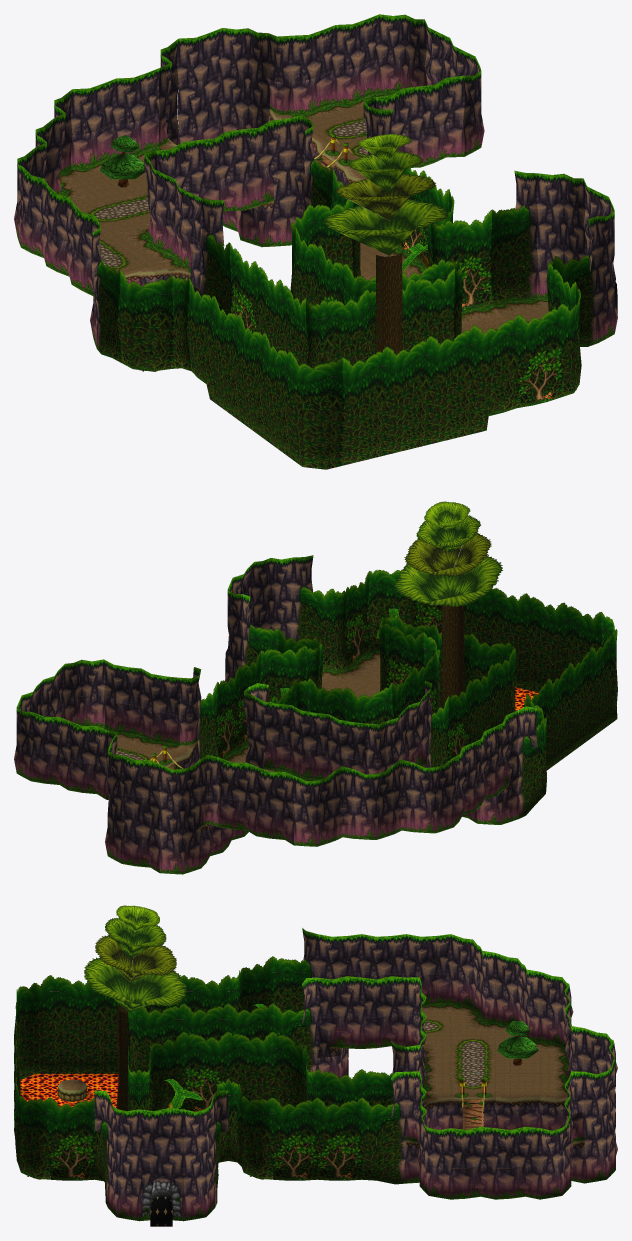
The picture shows the model from 3 angles, top to bottom: view 1: azimuth 30°, elevation 25°; view 2: azimuth 150°, elevation 25°; view 3: azimuth 270°, elevation 25°; orthographic projection. The views are drawn at different scales.
Visible parts, largest first — view 1: T5L4M004_135, T5L4M004_119, T5L4M004_150, T5L4M004_106, T5L4M004_153, T5L4M004_152, T5L4M004_151, T5L4M004_154, T5L4M004_118, T5L4M004_155, T5L4M004_136, T5L4M004_101 (+80 smaller); view 2: T5L4M004_135, T5L4M004_152, T5L4M004_139, T5L4M004_99, T5L4M004_153, T5L4M004_149, T5L4M004_156, T5L4M004_98, T5L4M004_138, T5L4M004_143, T5L4M004_123, T5L4M004_132 (+81 smaller); view 3: T5L4M004_135, T5L4M004_143, T5L4M004_89, T5L4M004_150, T5L4M004_98, T5L4M004_105, T5L4M004_149, T5L4M004_131, T5L4M004_115, T5L4M004_156, T5L4M004_112, T5L4M004_109 (+83 smaller).
Part boxes in pixels (x1,y1,x2,y2): T5L4M004_135: [322, 134, 449, 368]; T5L4M004_119: [490, 170, 548, 320]; T5L4M004_150: [288, 351, 344, 469]; T5L4M004_106: [117, 270, 173, 371]; T5L4M004_153: [428, 325, 475, 444]; T5L4M004_152: [384, 336, 431, 455]; T5L4M004_151: [340, 347, 387, 465]; T5L4M004_154: [472, 314, 519, 433]; T5L4M004_118: [447, 210, 507, 330]; T5L4M004_155: [517, 304, 563, 407]; T5L4M004_136: [409, 268, 454, 348]; T5L4M004_101: [200, 198, 232, 315]; T5L4M004_135: [394, 501, 502, 708]; T5L4M004_152: [515, 593, 564, 702]; T5L4M004_139: [293, 555, 333, 680]; T5L4M004_99: [517, 706, 544, 818]; T5L4M004_153: [488, 588, 527, 695]; T5L4M004_149: [345, 571, 380, 678]; T5L4M004_156: [367, 569, 414, 657]; T5L4M004_98: [215, 666, 247, 762]; T5L4M004_138: [321, 587, 375, 693]; T5L4M004_143: [588, 631, 615, 739]; T5L4M004_123: [546, 662, 572, 770]; T5L4M004_132: [567, 646, 593, 755]; T5L4M004_135: [84, 905, 186, 1111]; T5L4M004_143: [50, 975, 94, 1086]; T5L4M004_89: [362, 1071, 406, 1184]; T5L4M004_150: [16, 975, 50, 1086]; T5L4M004_98: [317, 1097, 361, 1180]; T5L4M004_105: [273, 1097, 317, 1180]; T5L4M004_149: [50, 1097, 94, 1180]; T5L4M004_131: [139, 1147, 183, 1226]; T5L4M004_115: [183, 1031, 228, 1111]; T5L4M004_156: [14, 1084, 50, 1179]; T5L4M004_112: [236, 1084, 272, 1179]; T5L4M004_109: [228, 1031, 272, 1101].
Size of the model in its own units: 43 by 22.94 by 54.25.
1 material, 1 textured.
